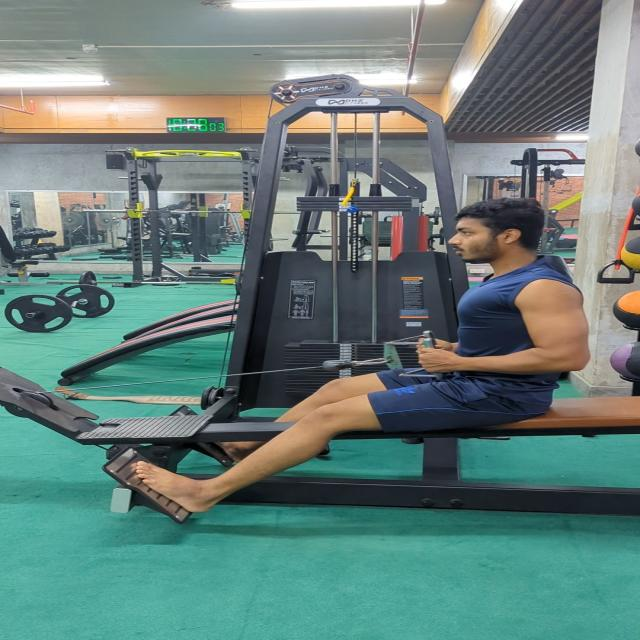Normal_RowingMachineExercise: (126, 195, 594, 532)
